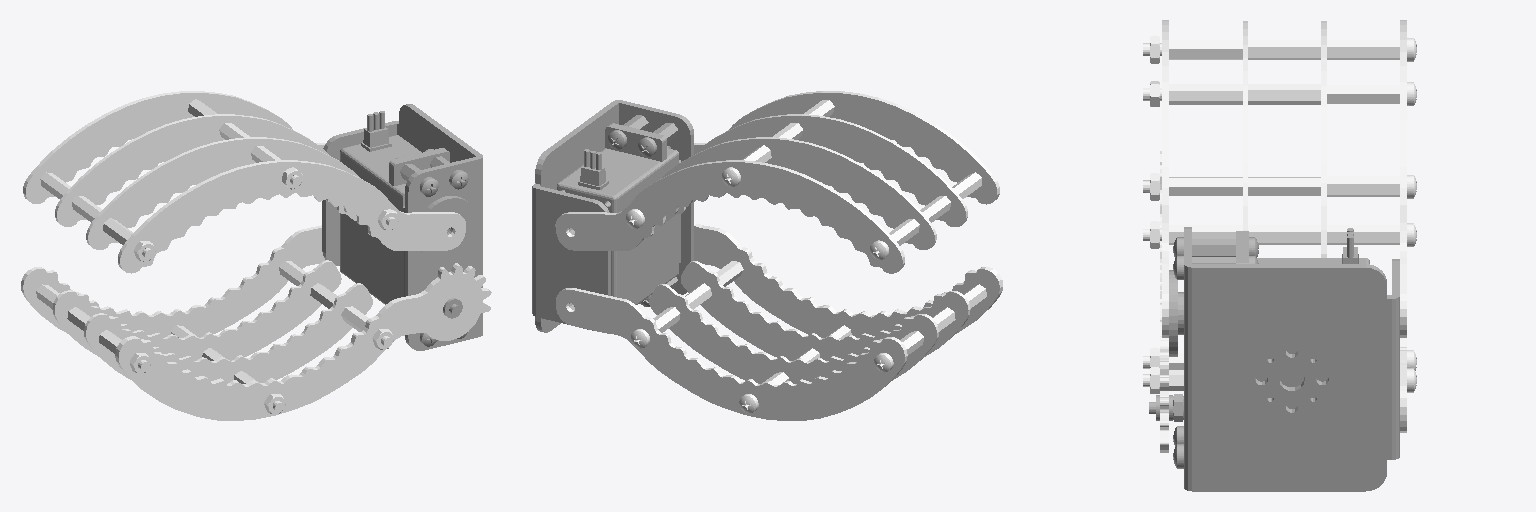
The robot description file, URDF, robot "gripper2":
<?xml version="1.0" encoding="utf-8"?>
<robot
  name="gripper2">
  <link
    name="base_link">
    <inertial>
      <origin
        xyz="-0.0085692 -0.0033104 -7.8044E-05"
        rpy="0 0 0" />
      <mass
        value="0.11906" />
      <inertia
        ixx="5.4401E-05"
        ixy="-3.727E-07"
        ixz="-2.0098E-07"
        iyy="2.8843E-05"
        iyz="-6.0295E-07"
        izz="3.7188E-05" />
    </inertial>
    <visual>
      <origin
        xyz="0 0 0"
        rpy="0 0 0" />
      <geometry>
        <mesh
          filename="package://gripper2/meshes/base_link.STL" />
      </geometry>
      <material
        name="">
        <color
          rgba="0.75294 0.75294 0.75294 1" />
      </material>
    </visual>
    <collision>
      <origin
        xyz="0 0 0"
        rpy="0 0 0" />
      <geometry>
        <mesh
          filename="package://gripper2/meshes/base_link.STL" />
      </geometry>
    </collision>
  </link>
  <link
    name="left_link">
    <inertial>
      <origin
        xyz="-0.059051 -0.0021953 0.020051"
        rpy="0 0 0" />
      <mass
        value="0.026471" />
      <inertia
        ixx="1.3813E-06"
        ixy="-1.211E-11"
        ixz="1.2469E-06"
        iyy="7.2157E-06"
        iyz="-9.8817E-12"
        izz="7.1751E-06" />
    </inertial>
    <visual>
      <origin
        xyz="0 0 0"
        rpy="0 0 0" />
      <geometry>
        <mesh
          filename="package://gripper2/meshes/left_link.STL" />
      </geometry>
      <material
        name="">
        <color
          rgba="1 1 1 1" />
      </material>
    </visual>
    <collision>
      <origin
        xyz="0 0 0"
        rpy="0 0 0" />
      <geometry>
        <mesh
          filename="package://gripper2/meshes/left_link.STL" />
      </geometry>
    </collision>
  </link>
  <joint
    name="left_joint"
    type="revolute">
    <origin
      xyz="-0.0135 0 0.01"
      rpy="0 0 0" />
    <parent
      link="base_link" />
    <child
      link="left_link" />
    <axis
      xyz="0 -1 0" />
    <limit
      lower="-3"
      upper="3"
      effort="1"
      velocity="1" />
  </joint>
  <link
    name="right_link">
    <inertial>
      <origin
        xyz="-0.060951 -0.0033206 -0.004856"
        rpy="0 0 0" />
      <mass
        value="0.027594" />
      <inertia
        ixx="1.2215E-06"
        ixy="5.8021E-12"
        ixz="1.3138E-07"
        iyy="9.4165E-06"
        iyz="-7.6154E-12"
        izz="9.537E-06" />
    </inertial>
    <visual>
      <origin
        xyz="0 0 0"
        rpy="0 0 0" />
      <geometry>
        <mesh
          filename="package://gripper2/meshes/right_link.STL" />
      </geometry>
      <material
        name="">
        <color
          rgba="1 1 1 1" />
      </material>
    </visual>
    <collision>
      <origin
        xyz="0 0 0"
        rpy="0 0 0" />
      <geometry>
        <mesh
          filename="package://gripper2/meshes/right_link.STL" />
      </geometry>
    </collision>
  </link>
  <joint
    name="right_joint"
    type="revolute">
    <origin
      xyz="-0.0135 0 -0.014"
      rpy="0 0 0" />
    <parent
      link="base_link" />
    <child
      link="right_link" />
    <axis
      xyz="0 -1 0" />
    <limit
      lower="-3"
      upper="3"
      effort="1"
      velocity="1" />
  </joint>
</robot>

--- Render facts (derived) ---
The picture shows the robot from 3 angles, left to right: view 1: azimuth 30°, elevation 25°; view 2: azimuth 150°, elevation 25°; view 3: azimuth 270°, elevation 25°; orthographic projection.
Robot: gripper2 — 3 links, 2 joints (2 revolute); root link base_link; default pose: every joint at zero.
Visible links, largest first — view 1: right_link, left_link, base_link; view 2: right_link, left_link, base_link; view 3: base_link, left_link, right_link.
Boxes of the visible links, x1,y1,x2,y2 form: right_link: (21, 225, 491, 420); left_link: (23, 91, 465, 273); base_link: (322, 104, 482, 350); right_link: (556, 221, 1002, 420); left_link: (555, 91, 999, 273); base_link: (532, 100, 693, 332); base_link: (1149, 227, 1399, 491); left_link: (1143, 20, 1416, 337); right_link: (1143, 151, 1416, 452).
Bounding box of the posed robot: 0.1263 × 0.0633 × 0.0815 m (x, y, z).
3 mesh visuals loaded from 3 distinct referenced files (3 binary STL).
